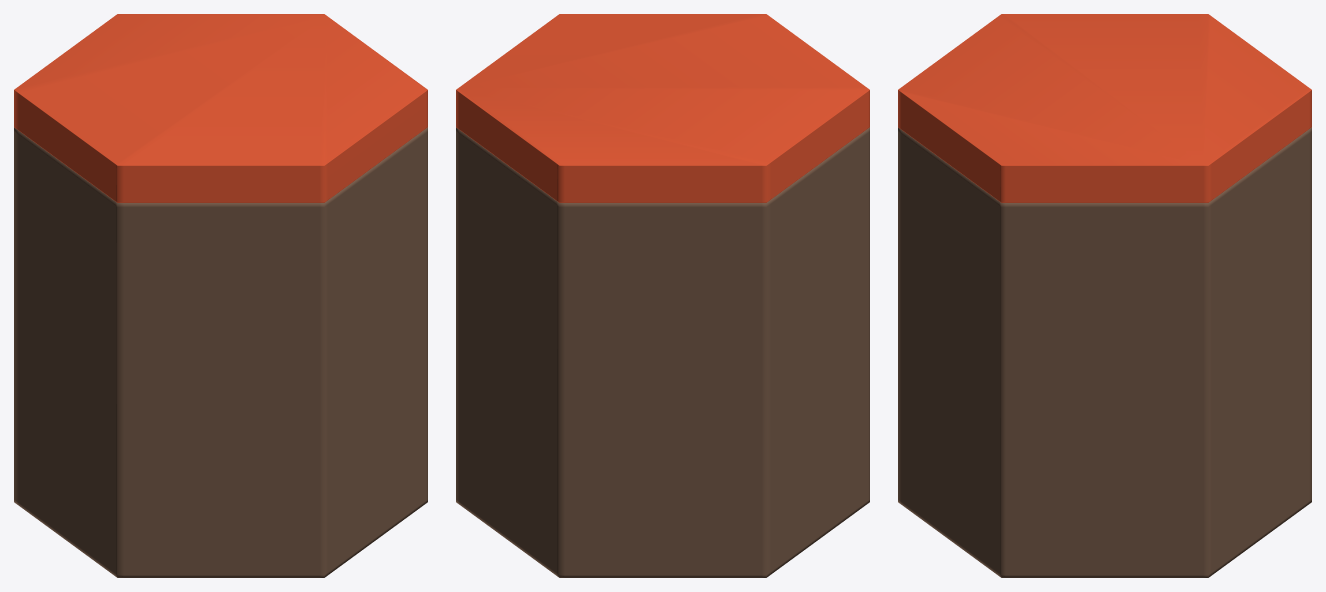
Rendered from fire_spawn.fbx.
The picture shows the model from 3 angles, left to right: view 1: azimuth 30°, elevation 25°; view 2: azimuth 150°, elevation 25°; view 3: azimuth 270°, elevation 25°; orthographic projection.
Parts seen in each view (by area): view 1: Cylinder, Cylinder.001; view 2: Cylinder, Cylinder.001; view 3: Cylinder, Cylinder.001.
Boxes of the visible parts, x1,y1,x2,y2 form: Cylinder: (14, 127, 427, 577); Cylinder.001: (14, 14, 427, 202); Cylinder: (456, 127, 869, 577); Cylinder.001: (456, 14, 869, 202); Cylinder: (898, 127, 1311, 577); Cylinder.001: (898, 14, 1311, 202).
Size of the model in its own units: 173 by 220 by 200.
